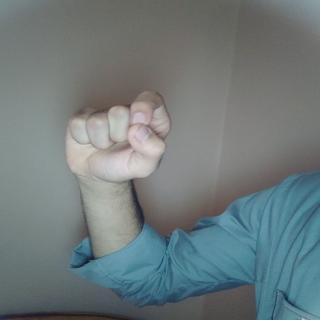FAA: (61, 82, 176, 188)
